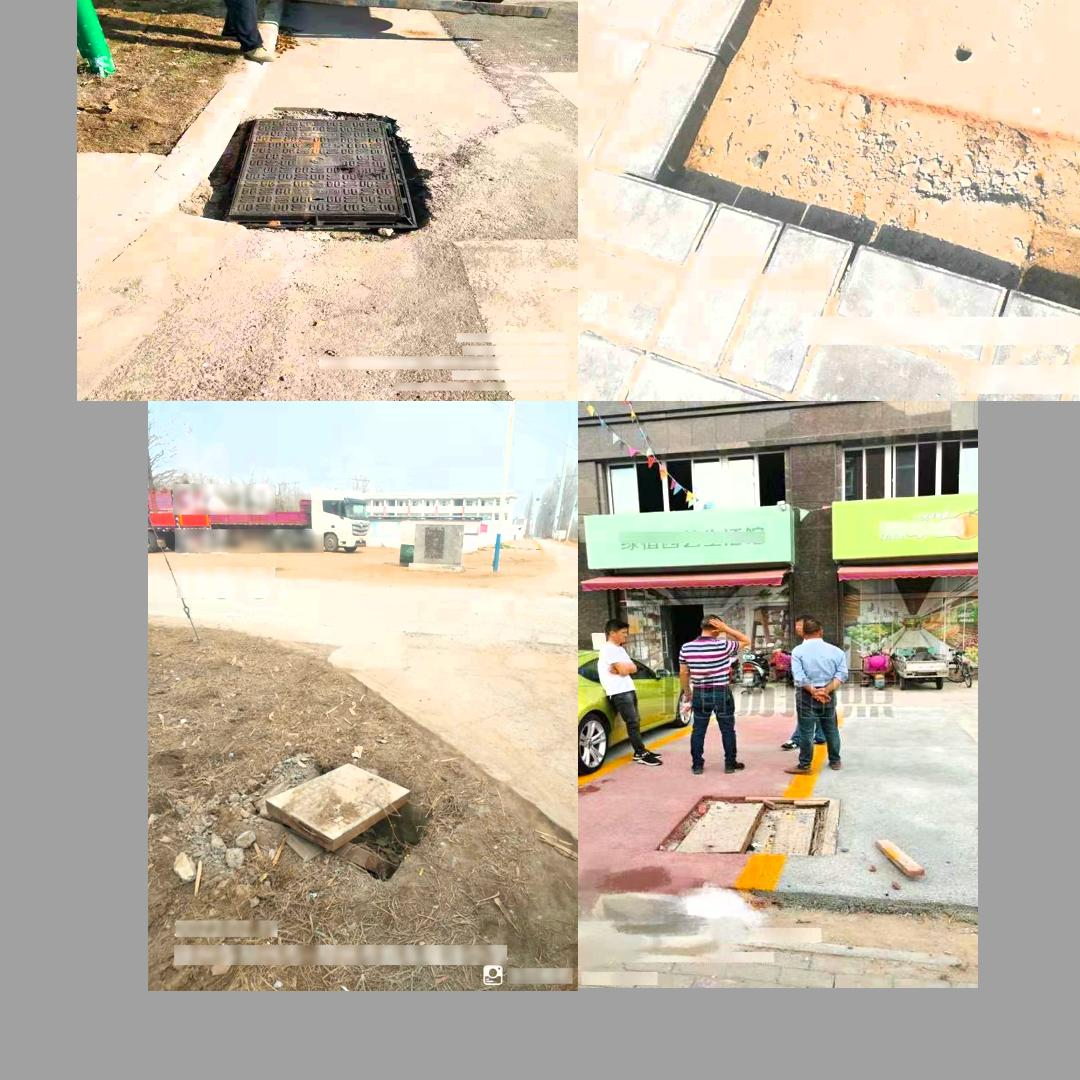circle: (664, 0, 1080, 245), (198, 112, 432, 237), (242, 749, 443, 892), (663, 796, 839, 858)
